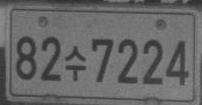2: (141, 38, 163, 84), (117, 38, 138, 83), (40, 36, 61, 80)
4: (166, 41, 189, 86)
7: (91, 38, 114, 83)
8: (14, 35, 37, 80)
수: (65, 44, 87, 81)
